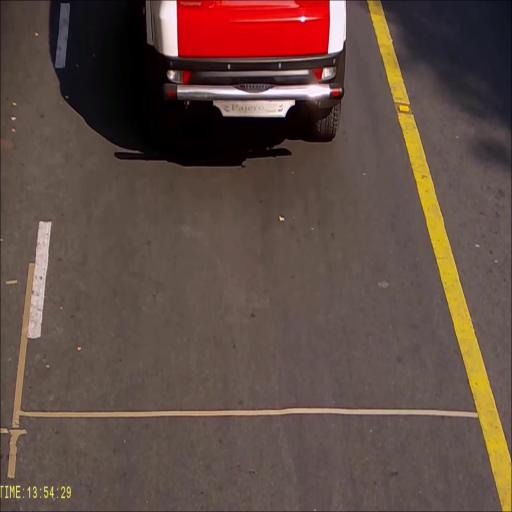Vehicle: (146, 0, 346, 142)
